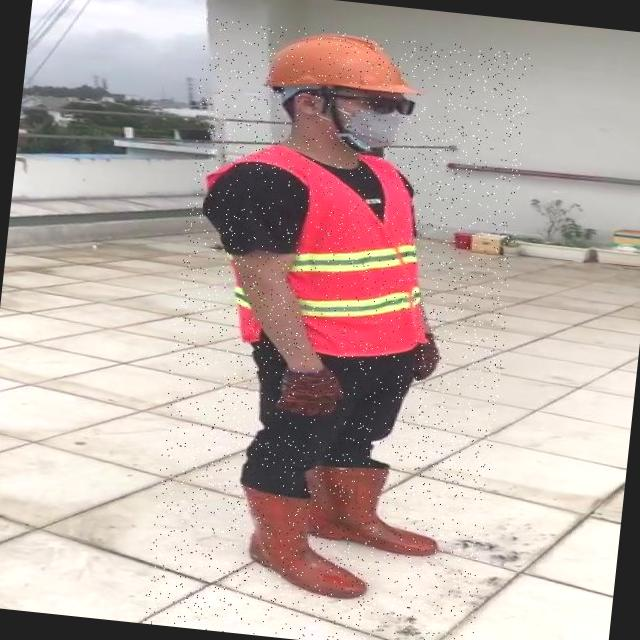boots: (228, 482, 377, 600), (294, 460, 448, 557)
helmet: (255, 24, 426, 103)
vest: (191, 139, 443, 364)
